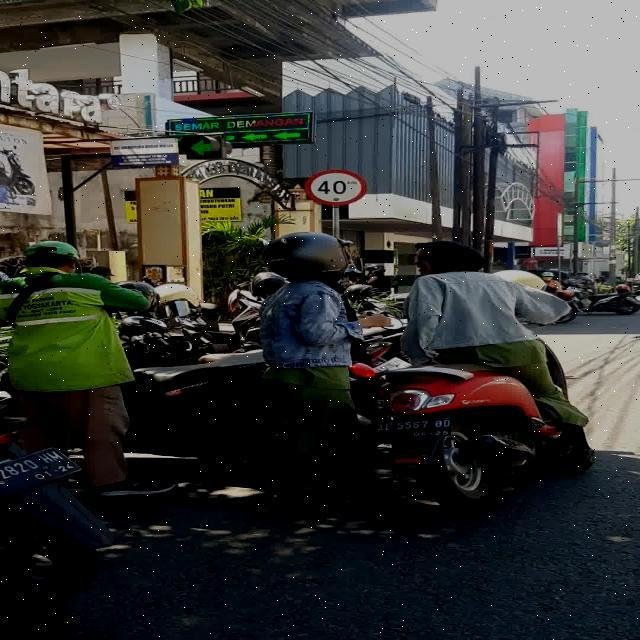Kecepatan Maks. 40 km: (306, 170, 366, 207)
